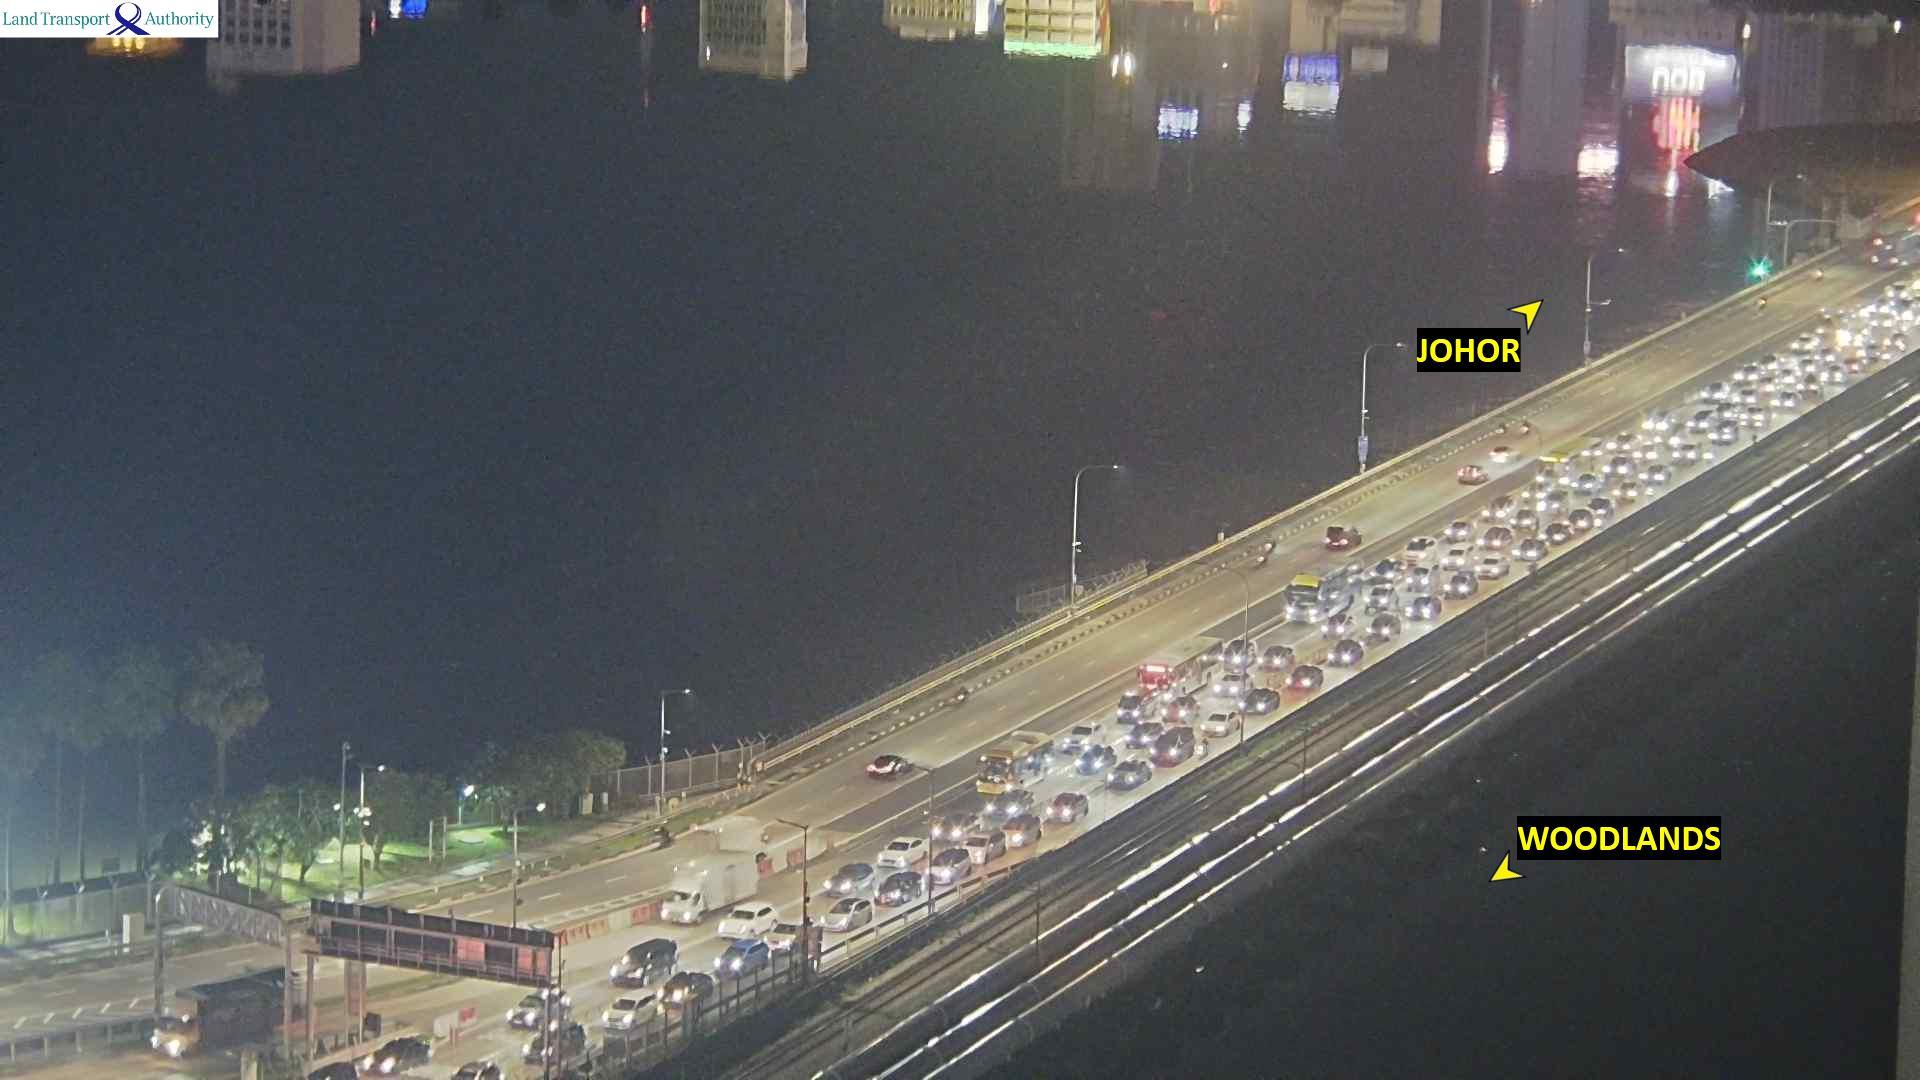vehicle-causeway-johor: (861, 757, 914, 779), (1327, 527, 1364, 551), (1458, 465, 1487, 485), (1491, 447, 1515, 463), (654, 824, 669, 844), (955, 683, 967, 703), (1519, 419, 1530, 436), (1758, 295, 1767, 311), (1265, 539, 1275, 551), (1497, 422, 1505, 435), (1816, 266, 1824, 280)
vehicle-causeway-singapore: (665, 860, 756, 919), (977, 732, 1055, 793), (1139, 640, 1220, 696), (607, 939, 680, 984), (1538, 440, 1598, 488), (1288, 576, 1358, 613), (364, 1036, 430, 1073), (508, 993, 575, 1029), (524, 1026, 583, 1062), (603, 996, 667, 1027), (711, 942, 771, 975), (1137, 731, 1191, 766), (866, 874, 926, 906), (717, 902, 782, 931), (812, 898, 872, 928), (654, 971, 711, 1001), (873, 839, 935, 866), (819, 865, 874, 894), (920, 855, 977, 882), (982, 793, 1031, 822), (1072, 745, 1117, 775), (1098, 765, 1147, 790), (1007, 814, 1042, 848), (1047, 791, 1085, 822), (1064, 720, 1104, 749), (760, 924, 810, 947), (1201, 709, 1244, 736), (936, 816, 978, 843), (1443, 541, 1478, 570), (968, 832, 1004, 861), (1404, 597, 1445, 622), (1240, 686, 1278, 712), (447, 1060, 500, 1079), (1163, 698, 1200, 724), (1365, 585, 1403, 611), (1328, 640, 1364, 665), (1118, 690, 1150, 717), (1404, 535, 1431, 566), (1224, 642, 1255, 667), (1445, 575, 1480, 597), (1443, 522, 1478, 543), (1476, 555, 1509, 578), (1410, 566, 1437, 592), (1367, 615, 1398, 638), (1258, 646, 1291, 667), (1710, 423, 1739, 447), (1319, 615, 1353, 634), (1509, 512, 1540, 533), (1481, 529, 1514, 549), (1617, 485, 1646, 508), (1789, 335, 1820, 356), (1515, 539, 1547, 559), (1688, 410, 1717, 431), (1535, 492, 1563, 513), (1672, 443, 1701, 463), (1486, 495, 1509, 520), (1611, 435, 1646, 451), (1737, 364, 1766, 382), (1818, 365, 1844, 386), (1644, 464, 1671, 484), (1743, 407, 1771, 426), (1585, 496, 1613, 514), (1540, 524, 1568, 542), (1774, 389, 1796, 411), (1797, 376, 1820, 398), (1605, 458, 1631, 476), (1288, 666, 1315, 684), (1776, 371, 1803, 389), (1660, 429, 1685, 447), (1567, 509, 1592, 527), (1701, 382, 1727, 400), (1572, 476, 1596, 495), (1648, 419, 1677, 434), (1738, 389, 1759, 406)
